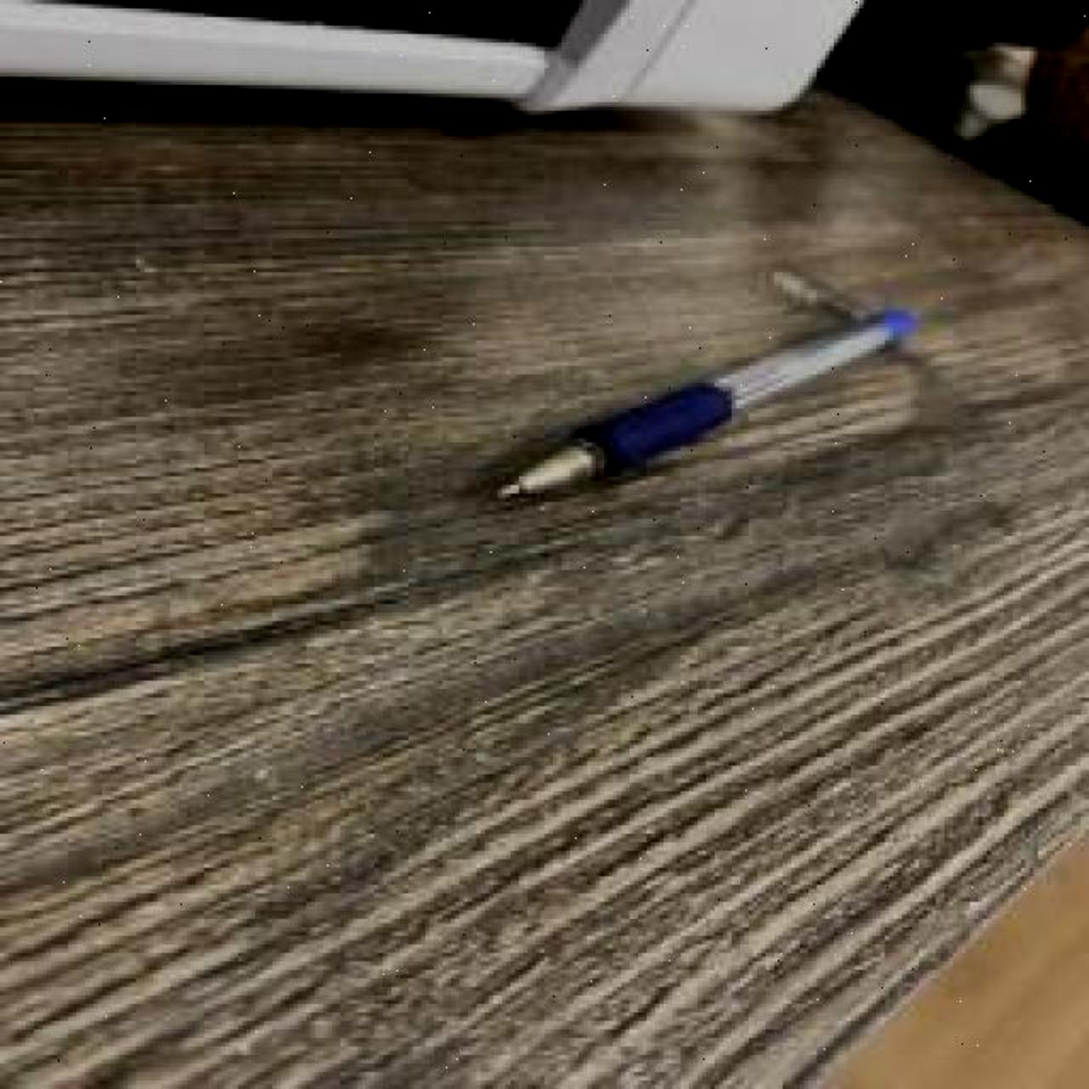pen: (499, 306, 915, 502)
